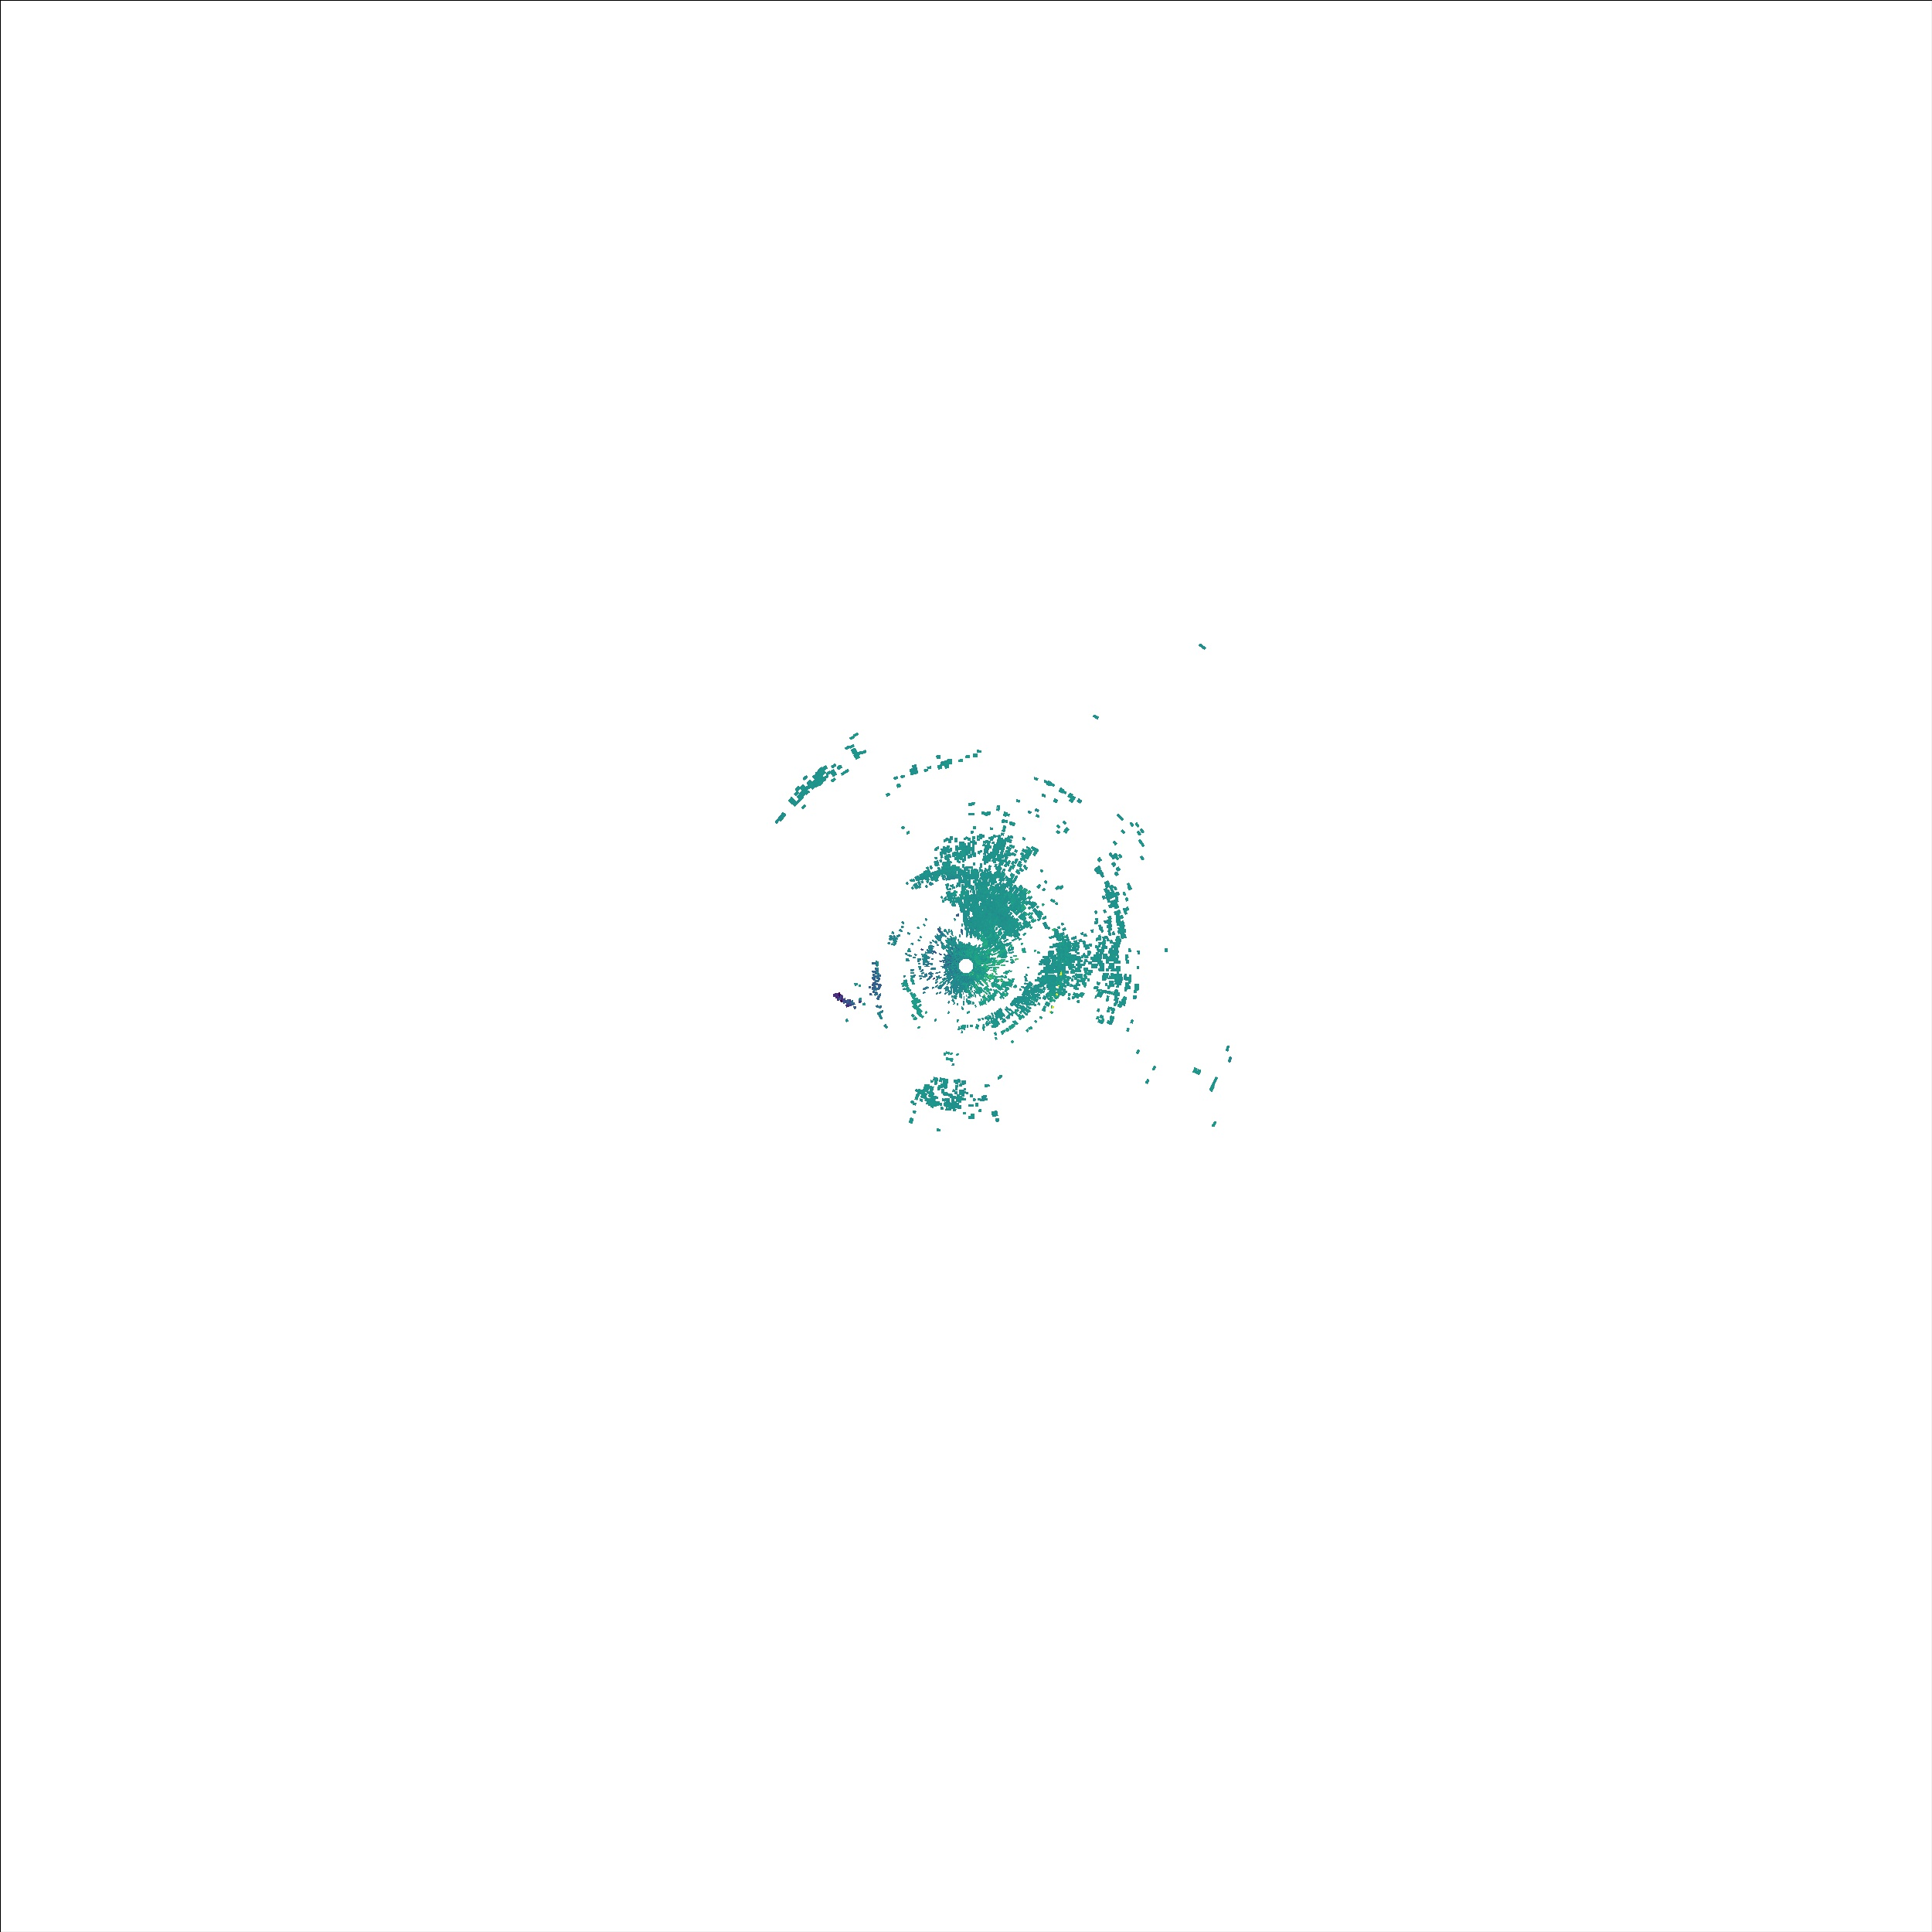fall: (824, 987, 858, 1014)
